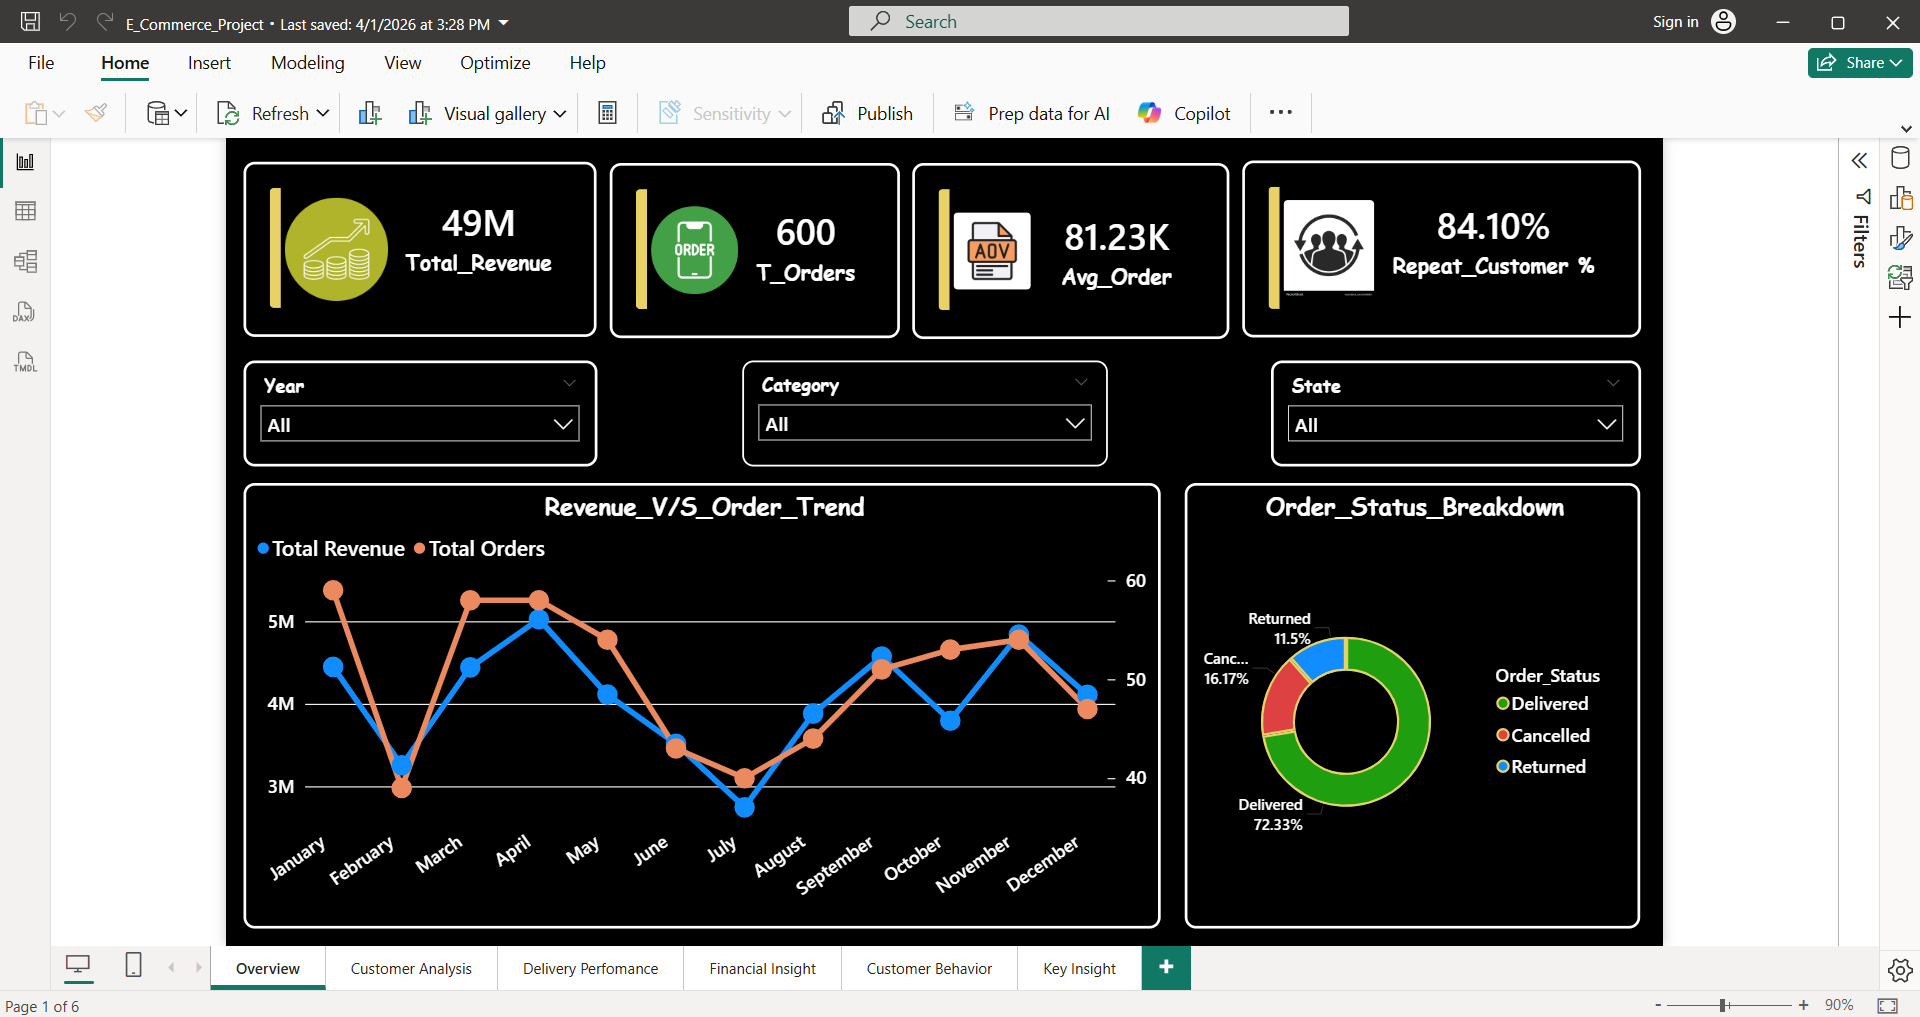

The dashboard page shown, as its layout file describes it:
{"tool":"powerbi","page":{"name":"Overview","canvas":[1280,720],"ordinal":0},"visuals":[{"type":"lineChart","title":"Revenue_V/S_Order_Trend","fields":{"Category":["E_Commerce_Dataset.Order_Date.Variation.Date Hierarchy.Month"],"Y":["Measures_F.Total Revenue"],"Y2":["Measures_F.Total Orders"]},"box":[15.9,307.3,816.6,396.8],"z":0},{"type":"cardVisual","fields":{"Data":["Measures_F.Total Revenue"]},"box":[15.9,21.6,314.5,155.8],"z":1000},{"type":"cardVisual","fields":{"Data":["Measures_F.Avg Order Value"]},"box":[611.7,21.7,282.3,156.8],"z":2000},{"type":"cardVisual","fields":{"Data":["Measures_F.Repeat Customer %"]},"box":[904.6,20.2,354.9,157.3],"z":3000},{"type":"donutChart","title":"Order_Status_Breakdown","fields":{"Category":["E_Commerce_Dataset.Order_Status"],"Y":["Measures_F.Total Orders"]},"box":[854.1,307.3,405.4,396.8],"z":4000},{"type":"slicer","fields":{"Values":["E_Commerce_Dataset.Order_Date.Variation.Date Hierarchy.Year"]},"box":[15.7,197.9,314.9,94.1],"z":5000},{"type":"slicer","fields":{"Values":["E_Commerce_Dataset.Category"]},"box":[459.7,197.9,325.7,94.1],"z":6000},{"type":"slicer","fields":{"Values":["E_Commerce_Dataset.State"]},"box":[930.2,197.9,329.4,94.1],"z":7000},{"type":"cardVisual","fields":{"Data":["Measures_F.Total Orders"]},"box":[341.4,21.7,258.2,155.6],"z":8000}]}

Visuals, with their boxes on the page's 1280x720 design canvas (x1, y1, x2, y2). These are canvas units, not pixel positions in the 1920x1017 screenshot, which may show the page scaled, cropped or inside an application window:
"Revenue_V/S_Order_Trend" lineChart: 16/307/832/704
cardVisual - Measures_F.Total Revenue: 16/22/330/177
cardVisual - Measures_F.Avg Order Value: 612/22/894/178
cardVisual - Measures_F.Repeat Customer %: 905/20/1260/178
"Order_Status_Breakdown" donutChart: 854/307/1260/704
slicer - E_Commerce_Dataset.Order_Date.Variation.Date Hierarchy.Year: 16/198/331/292
slicer - E_Commerce_Dataset.Category: 460/198/785/292
slicer - E_Commerce_Dataset.State: 930/198/1260/292
cardVisual - Measures_F.Total Orders: 341/22/600/177
